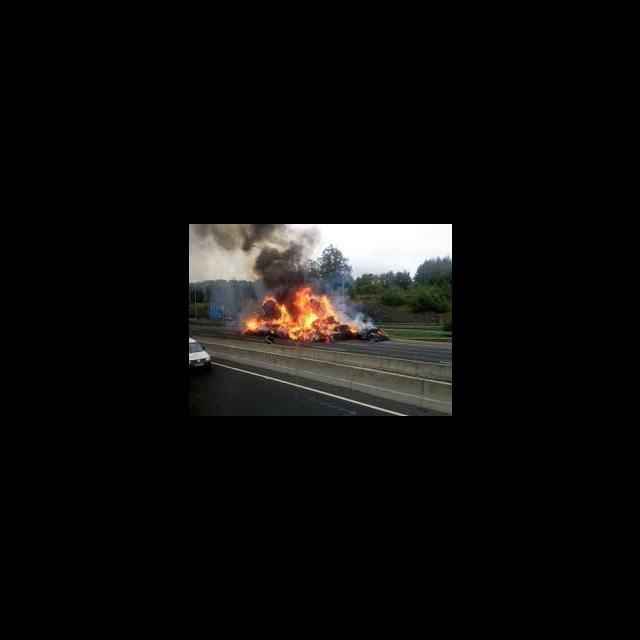Fire: (240, 287, 340, 344), (348, 322, 361, 336)
Smoke: (262, 228, 319, 286), (209, 224, 262, 247), (331, 278, 353, 298), (341, 302, 362, 322), (362, 314, 377, 327)
